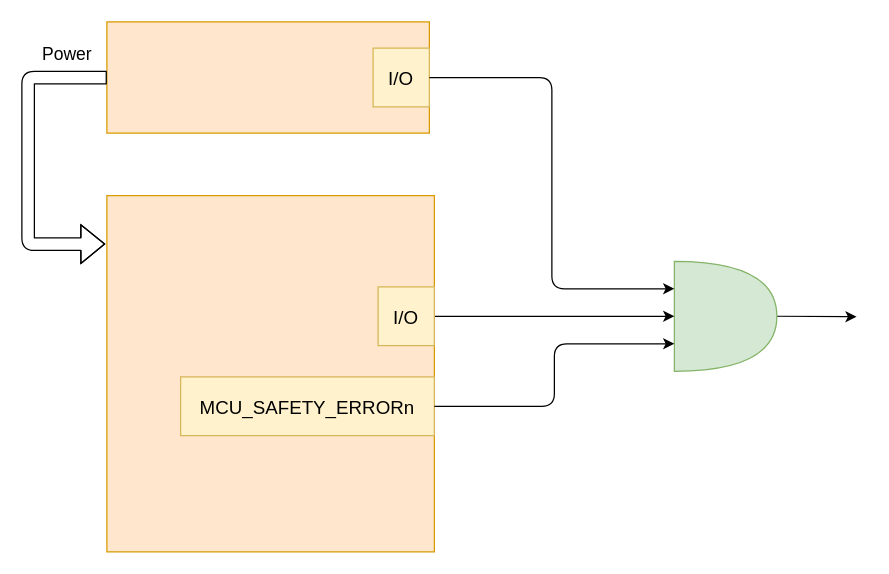
The diagram is 889 pixels wide and 574 high, and some of its shapes have lost their labels. Here are the shapes that lost their labels. From the top down, the box of each, then its label:
(106, 21, 429, 133): Power Management Unit
(106, 194, 434, 552): AM243x
